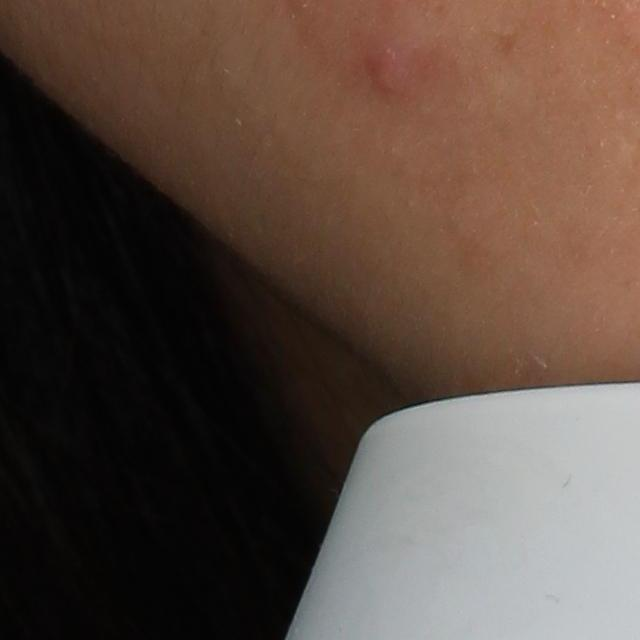papule: (365, 46, 411, 97)
